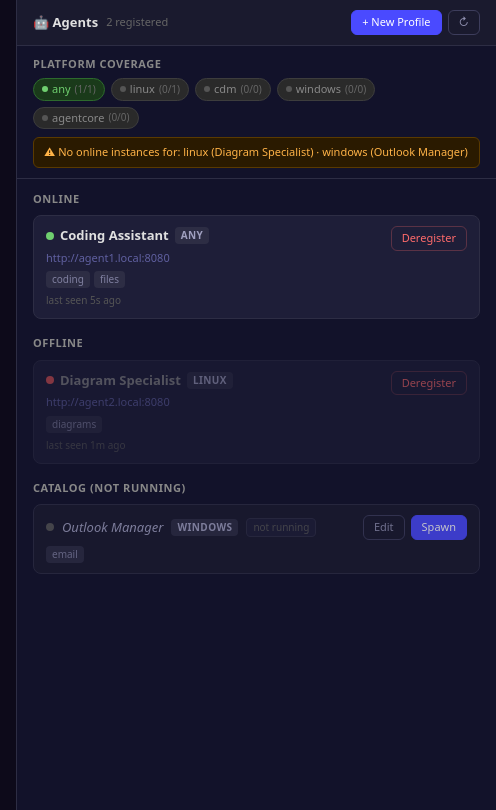
Test: AgentsPanel › clicking "New Profile" shows the profile form
Click the button "+ New Profile" at coordinates (396, 22), box [351,10,442,34]
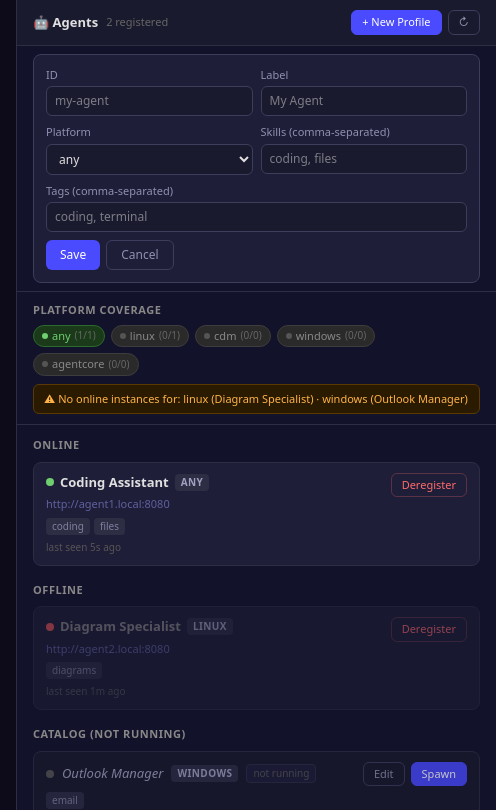
Check: the field with placeholder "my-agent" is shown, box [46,86,252,116]
Check: the field with placeholder "My Agent" is shown, box [260,86,467,116]
